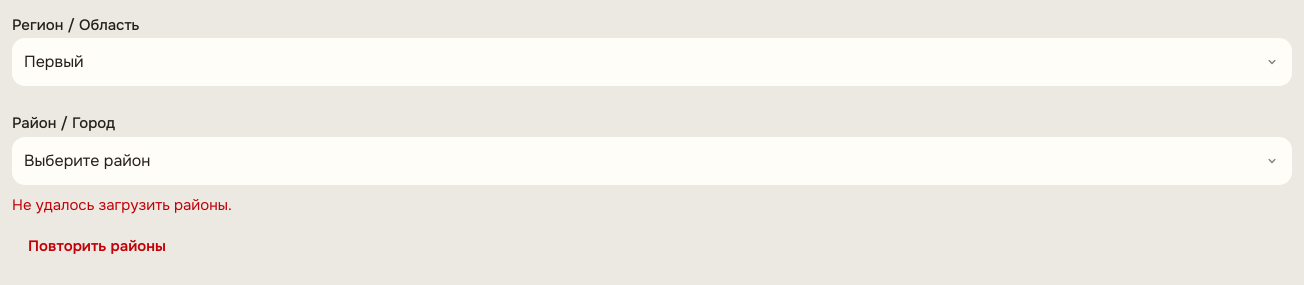
it: district loading failures are visible and retry cannot submit the surrounding profile form
Expected: the message shows "Не удалось загрузить районы.", [12,195,232,215]
Click the button "Повторить районы".
click(97, 247)  # box [12,225,182,269]
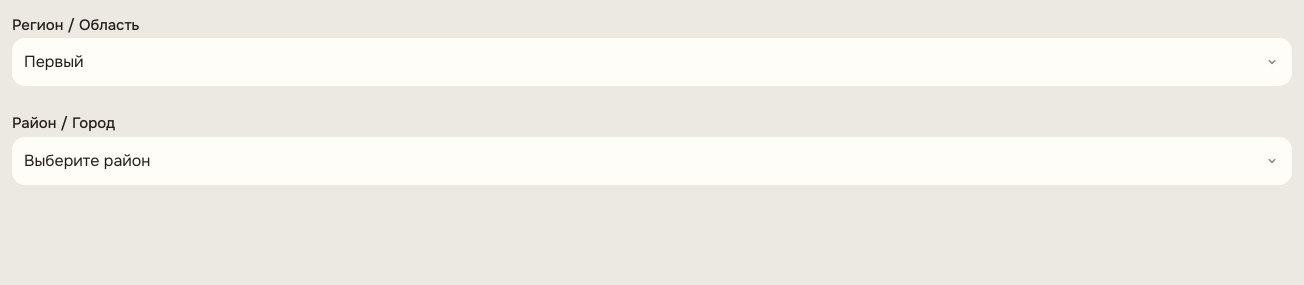
Expected: the dropdown named "Район / Город" is enabled, [12,137,1292,185]
Result: the message "Не удалось загрузить районы. Повторить районы" is gone
